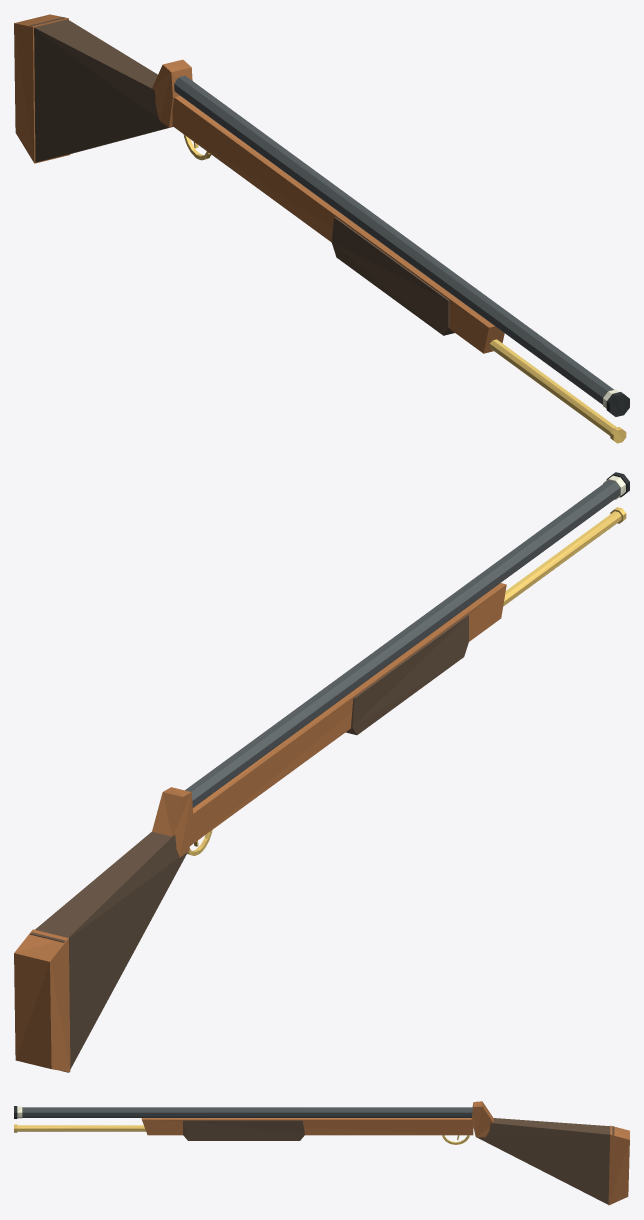
The model's file is mosquete.fbx.
3 renders of one model, top to bottom at view 1: azimuth 30°, elevation 25°; view 2: azimuth 150°, elevation 25°; view 3: azimuth 270°, elevation 25°, orthographic. The views are drawn at different scales.
Parts seen in each view (by area): view 1: mosquete; view 2: mosquete; view 3: mosquete.
Part boxes in pixels (left/top/right/bottom): mosquete: left=14, top=14, right=629, bottom=443; mosquete: left=14, top=472, right=629, bottom=1072; mosquete: left=14, top=1101, right=629, bottom=1205.
Size of the model in its own units: 0.053 by 0.261 by 1.5.
Materials: 1 (1 with a texture image).
